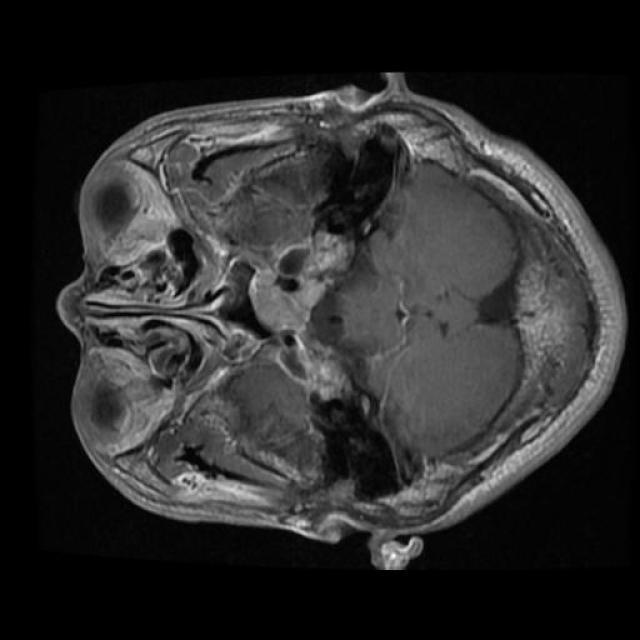Pituitary: (249, 247, 326, 380)
